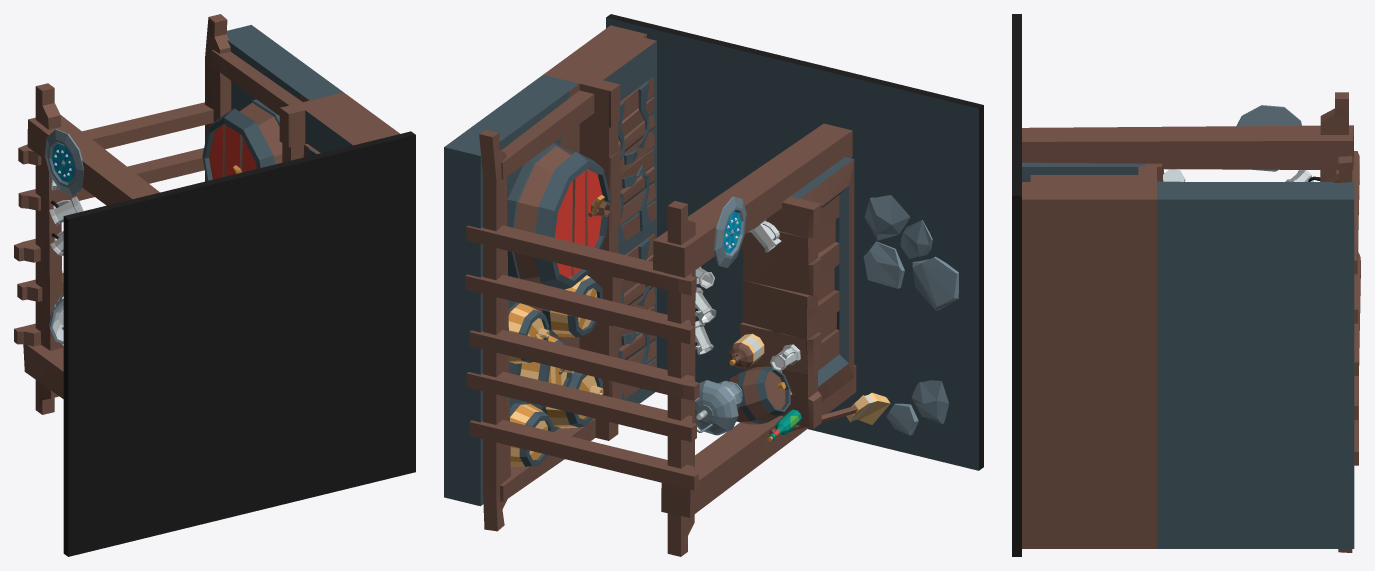
The model's file is tavern.dae.
3 views of the same model, side by side, from view 1: azimuth 30°, elevation 25°; view 2: azimuth 150°, elevation 25°; view 3: azimuth 270°, elevation 25° (orthographic). The views are drawn at different scales.
Visible parts, largest first — view 1: tavern; view 2: tavern; view 3: tavern.
Boxes of the visible parts, x1=… form: tavern: x1=14, y1=14, x2=415, y2=556; tavern: x1=444, y1=14, x2=983, y2=556; tavern: x1=1012, y1=14, x2=1360, y2=556.
Size of the model in its own units: 1.29 by 1.04 by 1.3.
